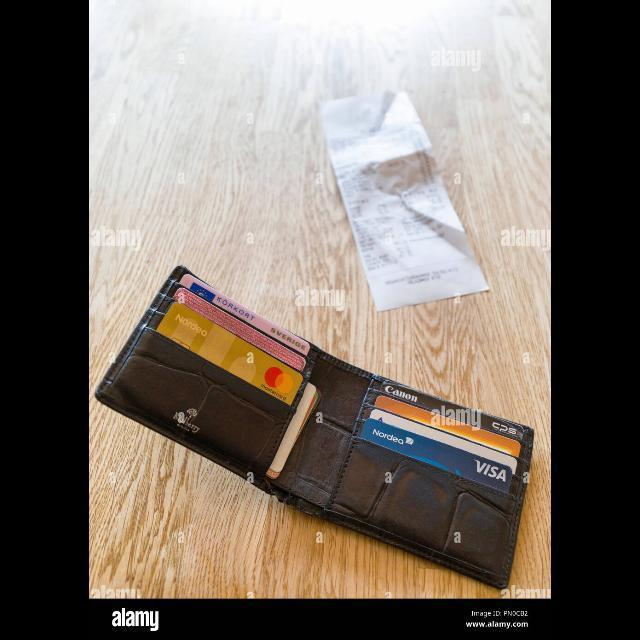wallet: (113, 250, 551, 570)
